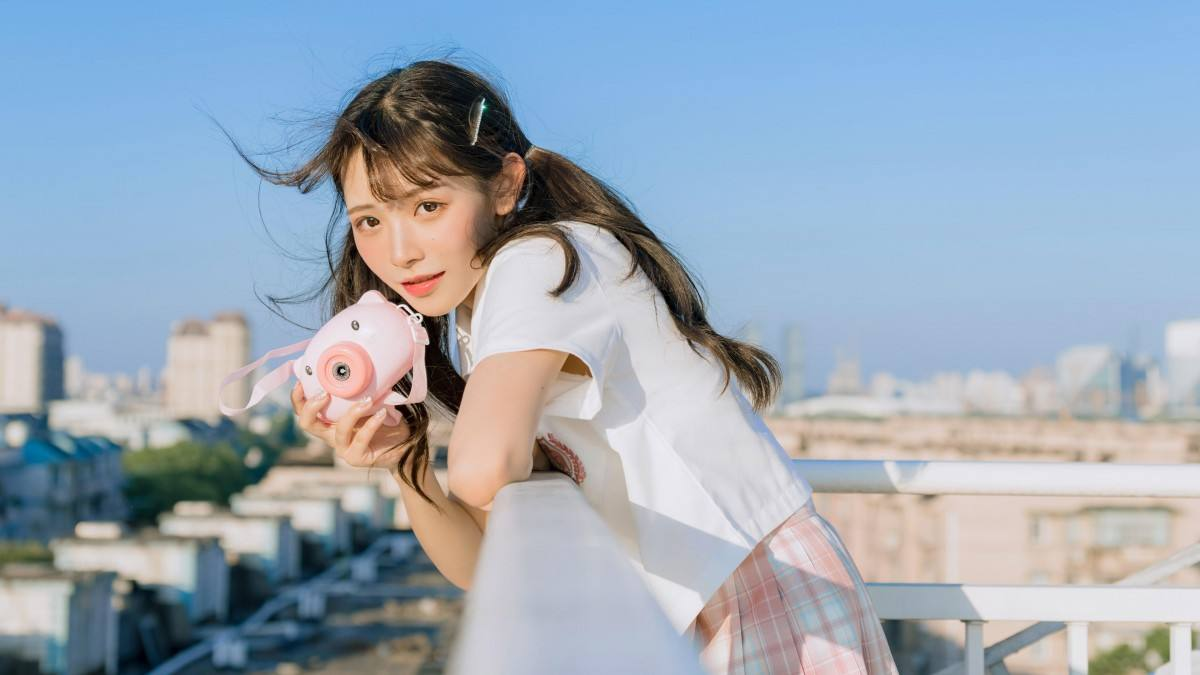person: (203, 62, 898, 675)
